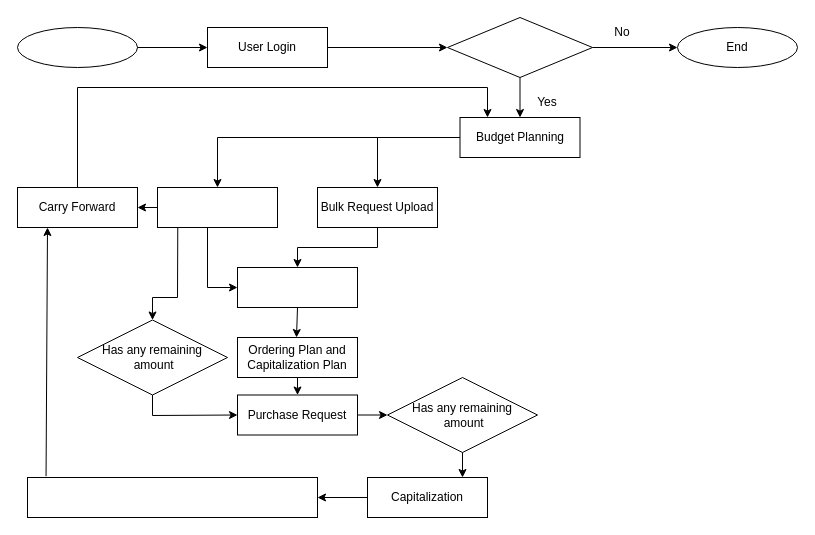
The diagram is 815 pixels wide and 535 high, and some of its shapes have lost their labels. Here are the shapes that lost their labels. From the top down, the centre of each, then its label:
(77,47): Start
(519,47): Is valid user?
(217,207): Budget Request Raise
(297,287): Budget History
(172,497): Total PR raised amount - Total Capitalization amount
